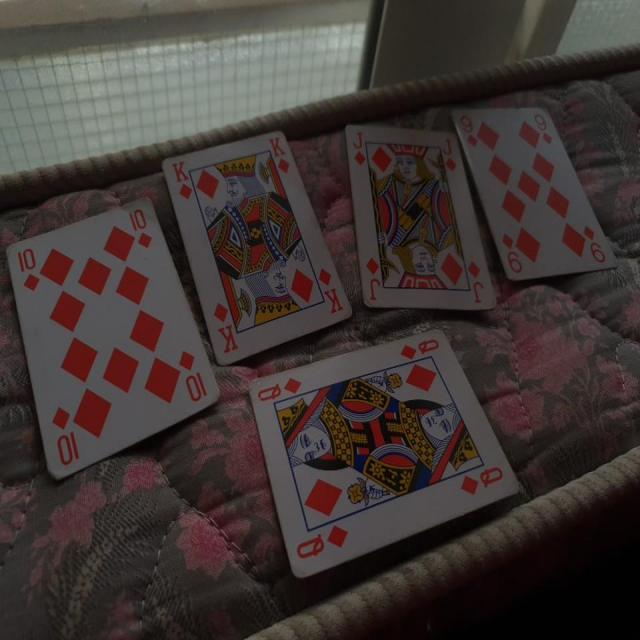10 Diamonds: (4, 196, 221, 484)
9 Diamonds: (449, 105, 620, 281)
J Diamonds: (343, 120, 498, 311)
K Diamonds: (161, 127, 355, 370)
Q Diamonds: (244, 327, 526, 582)
